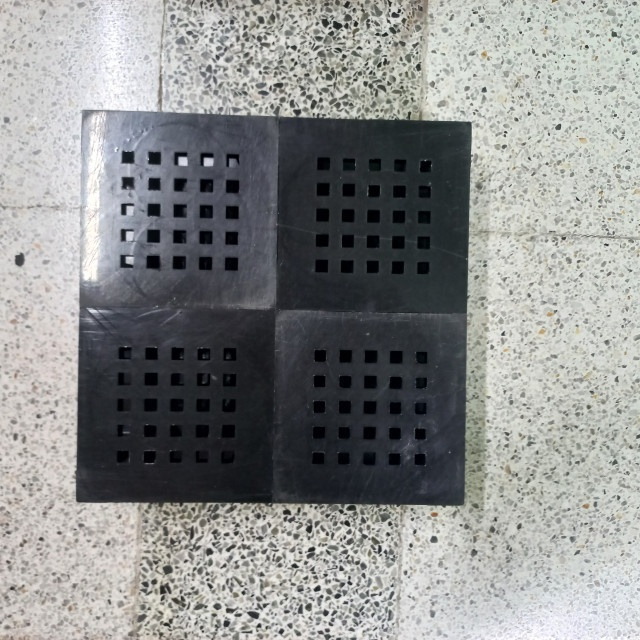pallet: (74, 112, 480, 504)
